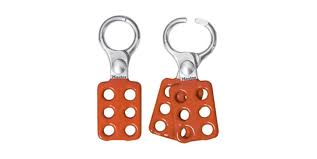hasp: (149, 15, 222, 141), (97, 14, 144, 142)
